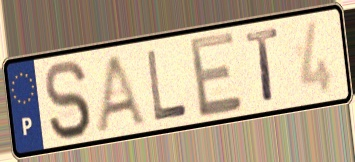4: (297, 17, 336, 99)
A: (93, 50, 151, 133)
E: (186, 28, 245, 122)
L: (144, 47, 190, 123)
S: (42, 58, 94, 143)
T: (243, 26, 281, 106)
